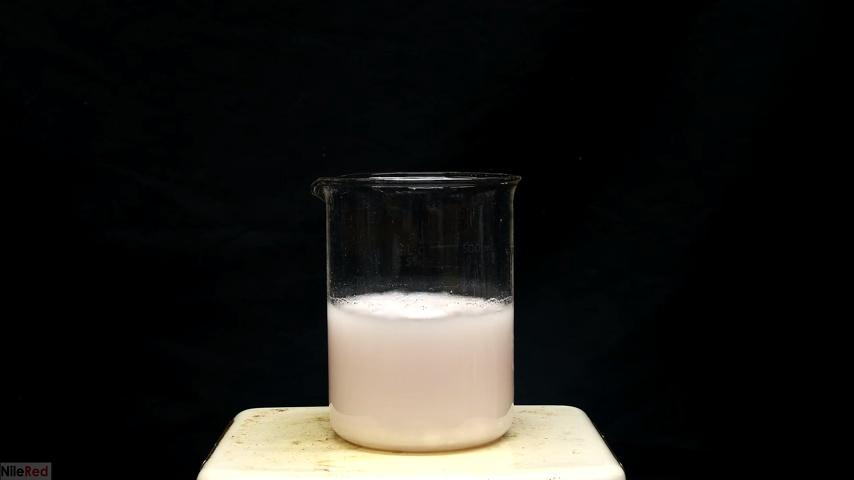Beaker: (310, 166, 526, 452)
